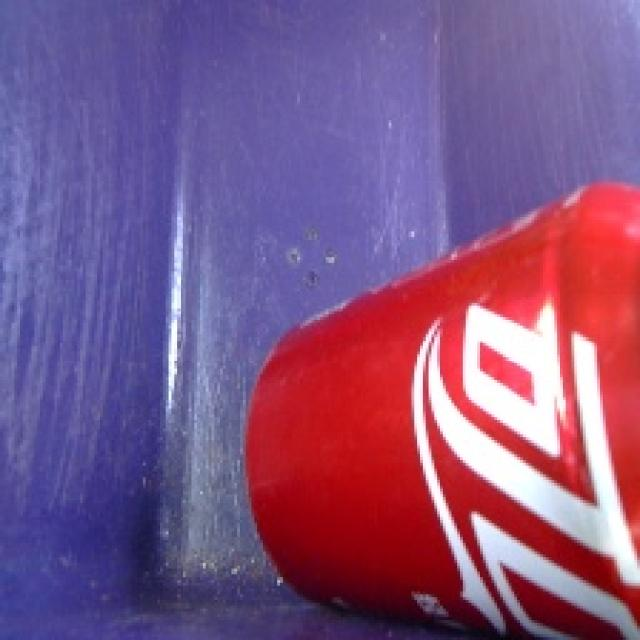metal: (212, 167, 640, 640)
